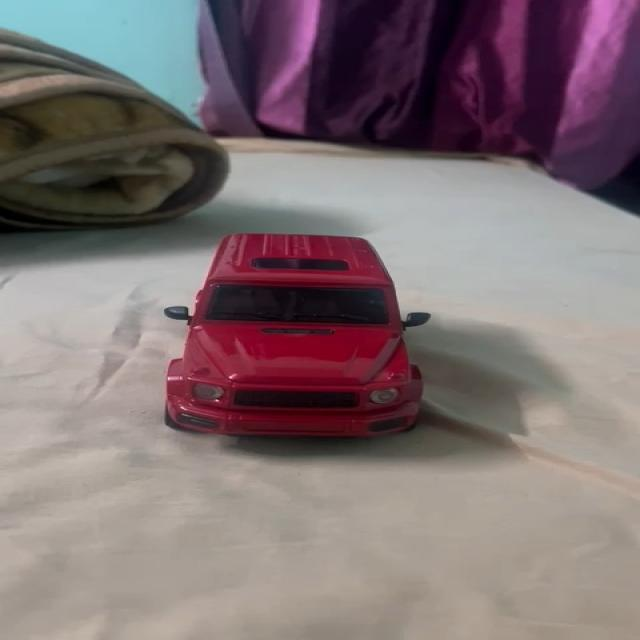light_vehicle: (154, 227, 435, 437)
